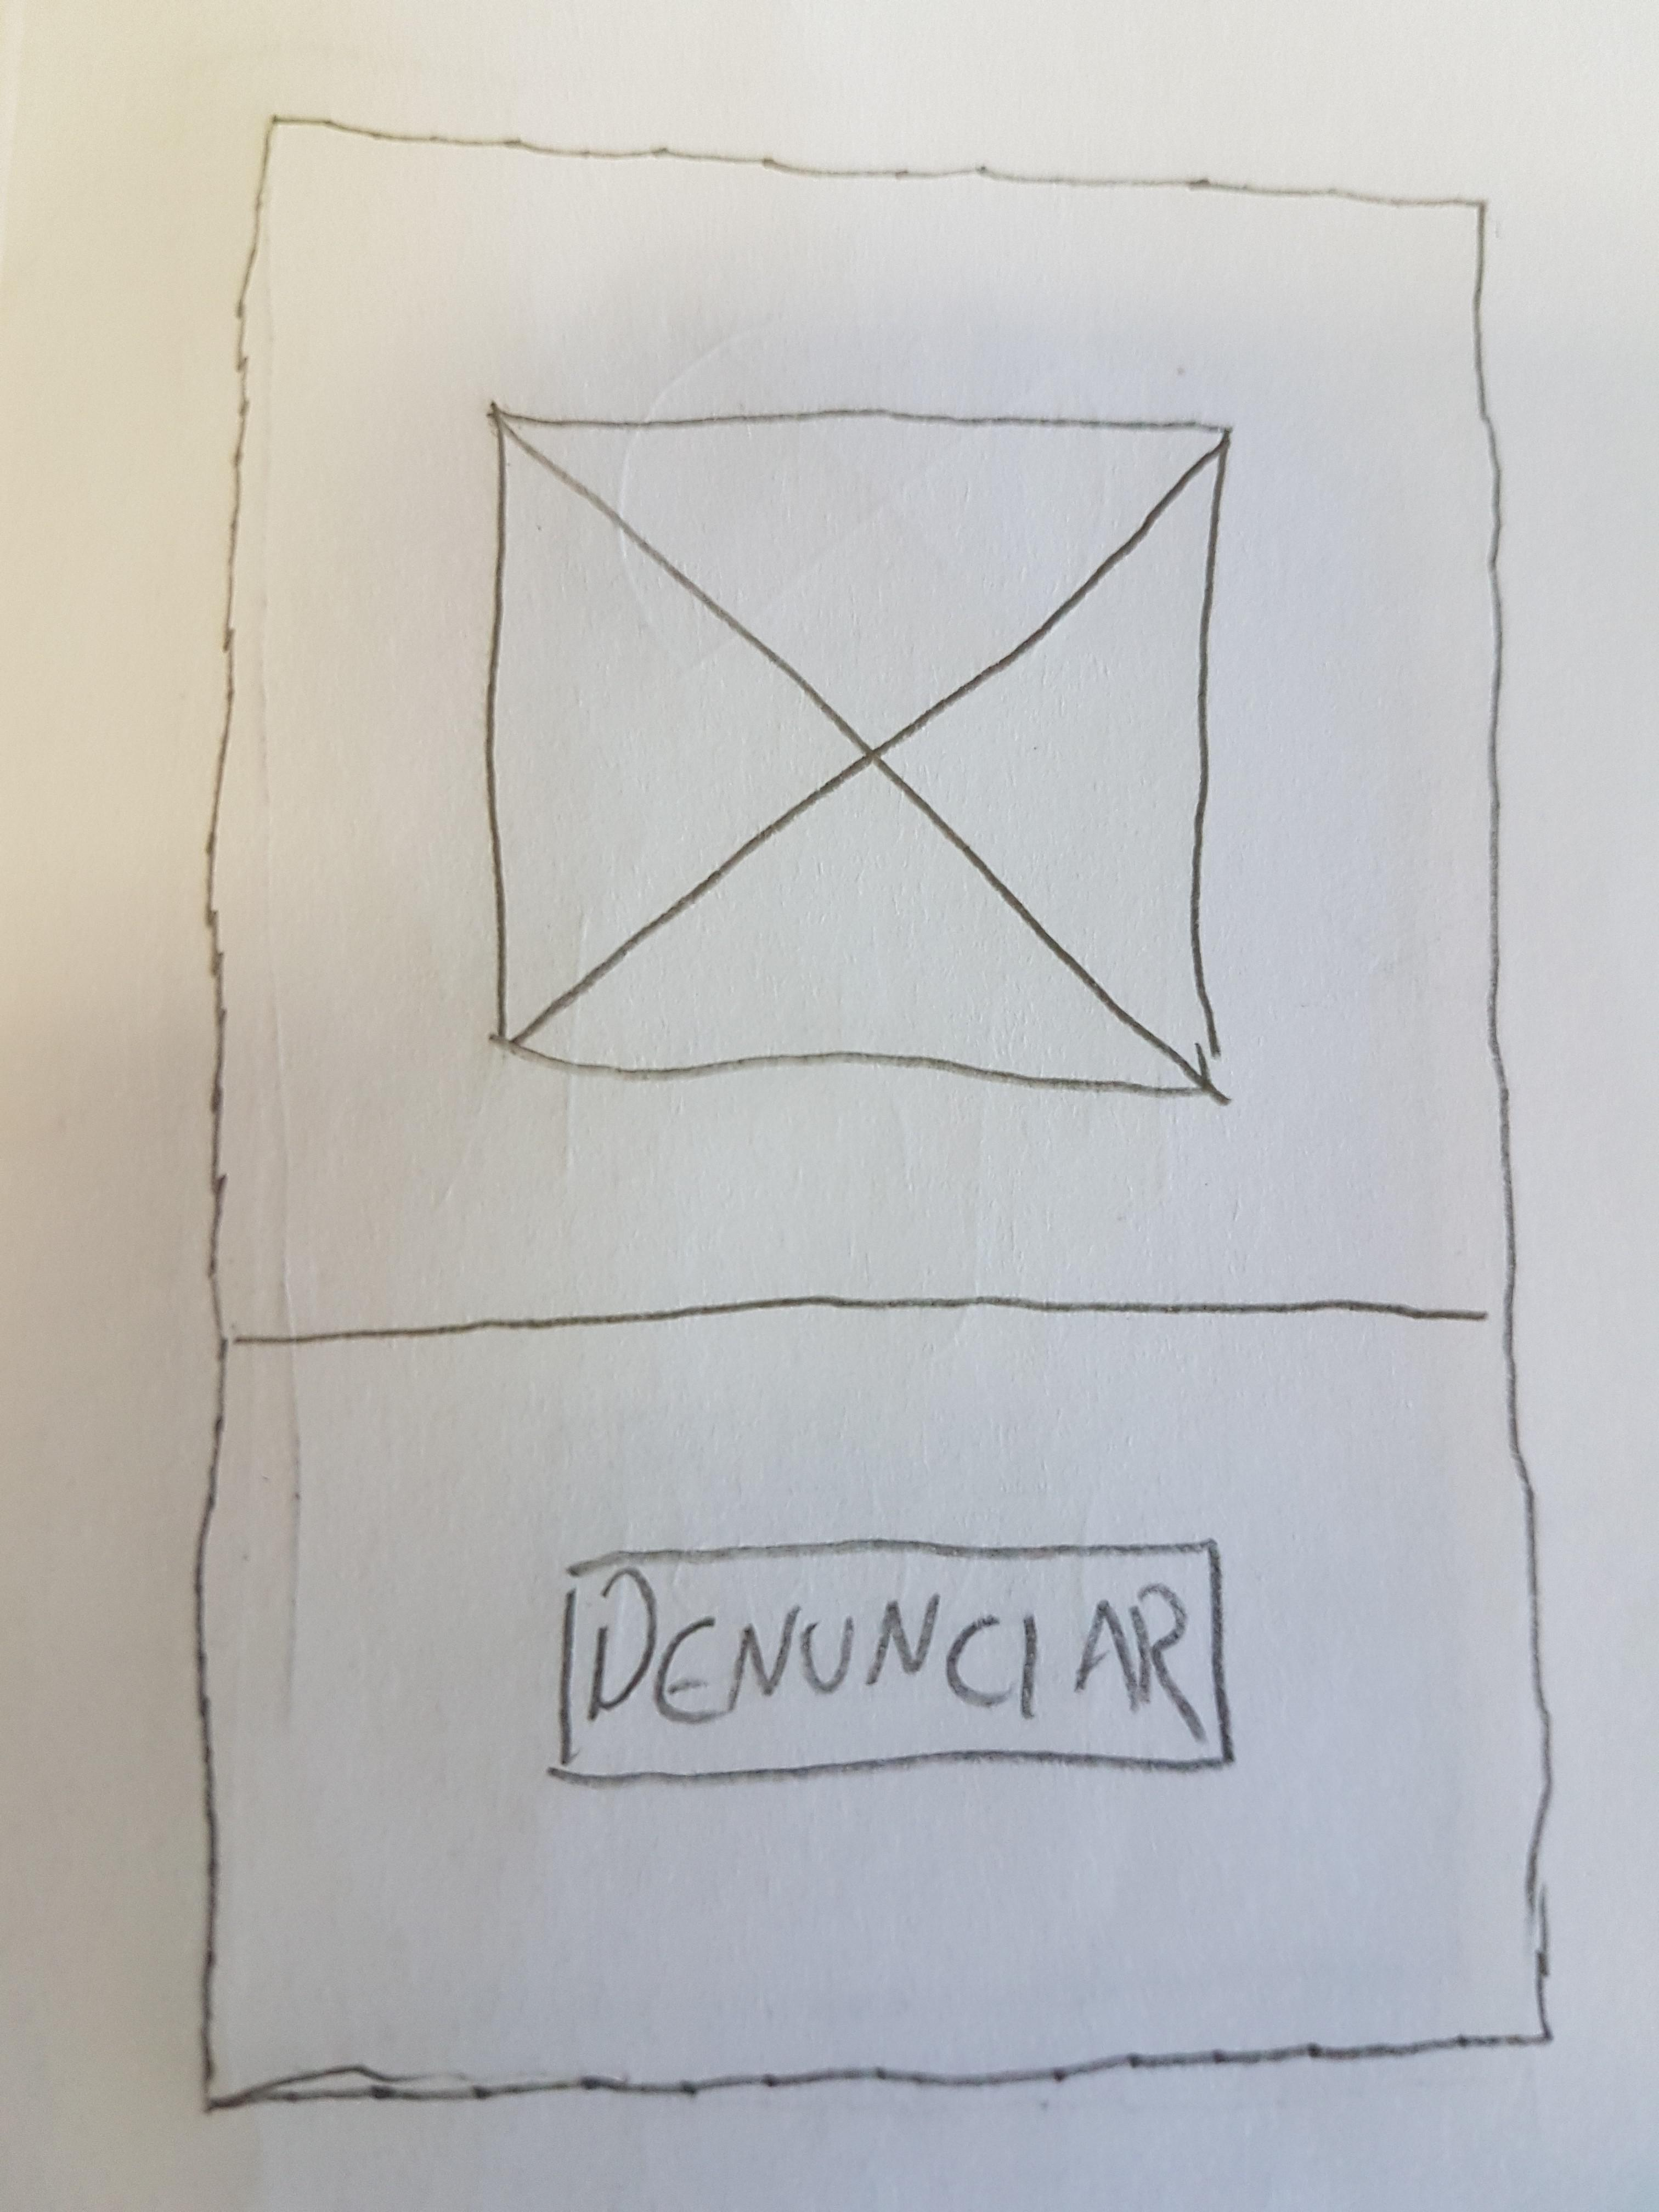Button: (542, 1538, 1236, 1787)
Image: (472, 416, 1230, 1090)
Screen: (185, 117, 1556, 2116)
